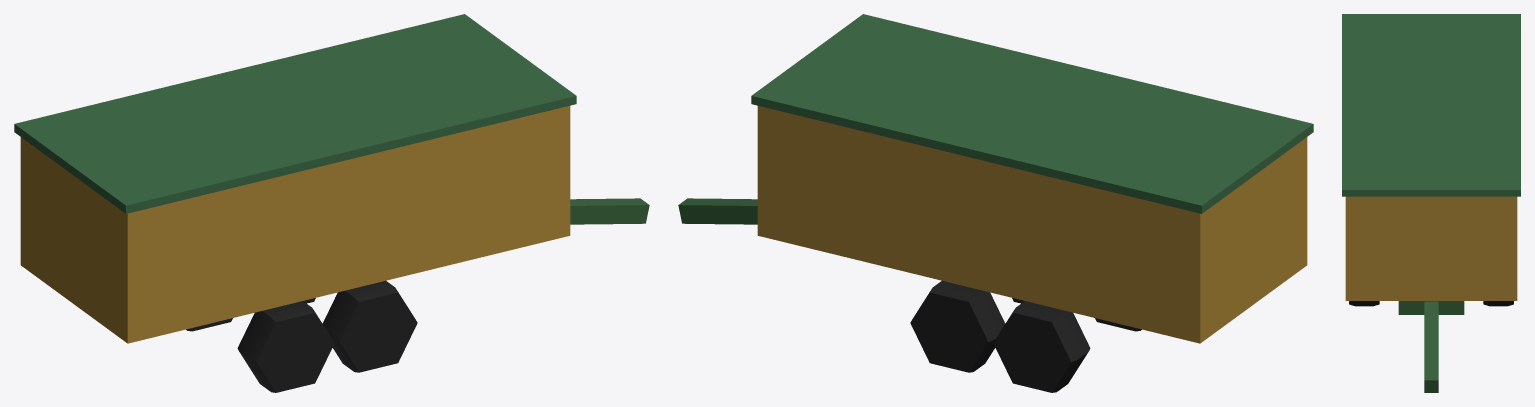
File: SM_Prop_farm_tipper_0_LOD2.glb
3 views of the same model, side by side, from view 1: azimuth 30°, elevation 25°; view 2: azimuth 150°, elevation 25°; view 3: azimuth 270°, elevation 25° (orthographic). The views are drawn at different scales.
Parts seen in each view (by area): view 1: SM_Prop_farm_tipper_0_LOD2; view 2: SM_Prop_farm_tipper_0_LOD2; view 3: SM_Prop_farm_tipper_0_LOD2.
Part boxes in pixels (box(x1,y1,x2,y2)): SM_Prop_farm_tipper_0_LOD2: box(14, 14, 649, 392); SM_Prop_farm_tipper_0_LOD2: box(678, 14, 1313, 392); SM_Prop_farm_tipper_0_LOD2: box(1342, 14, 1520, 392).
Bounding box in the file's own units: 7.27 × 2.78 × 2.45.
